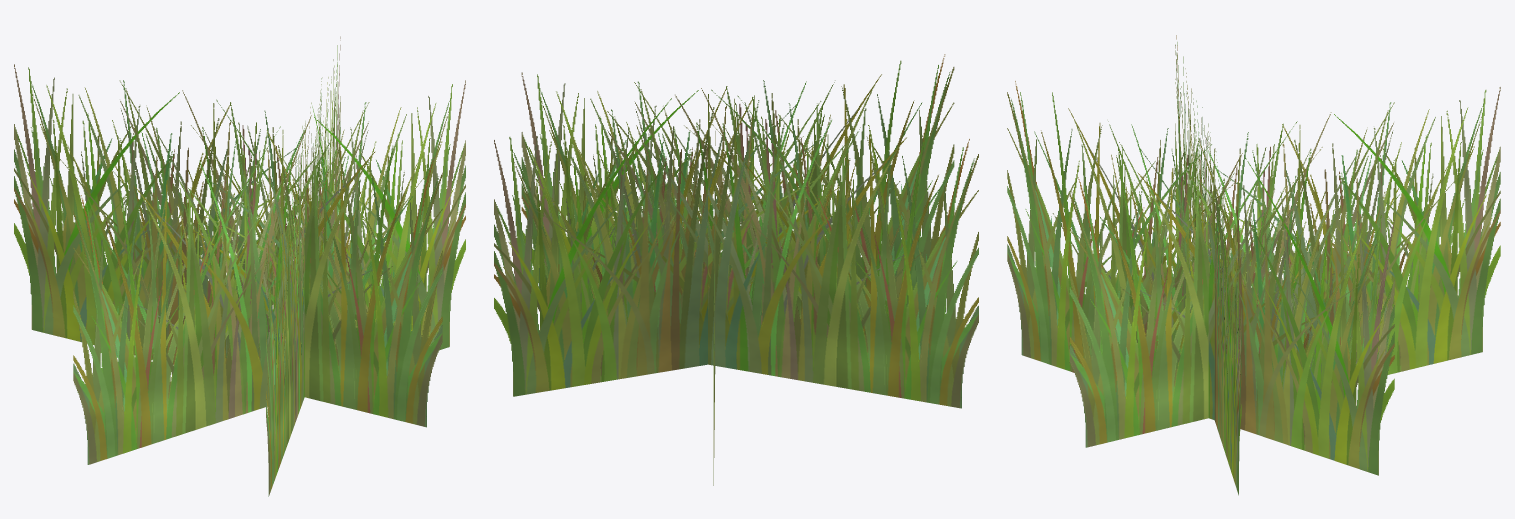
Rendered from Grass_Common_Short_LOD1.gltf.
3 renders of one model, left to right at view 1: azimuth 30°, elevation 25°; view 2: azimuth 150°, elevation 25°; view 3: azimuth 270°, elevation 25°, orthographic.
Visible parts, largest first — view 1: Grass_Common_Short_LOD1; view 2: Grass_Common_Short_LOD1; view 3: Grass_Common_Short_LOD1.
Boxes of the visible parts, x1,y1,x2,y2 form: Grass_Common_Short_LOD1: [14, 36, 465, 496]; Grass_Common_Short_LOD1: [494, 54, 978, 485]; Grass_Common_Short_LOD1: [1007, 35, 1500, 495].
Bounding box in the file's own units: 0.6937 × 0.4411 × 0.6961.
1 material, 1 textured.
